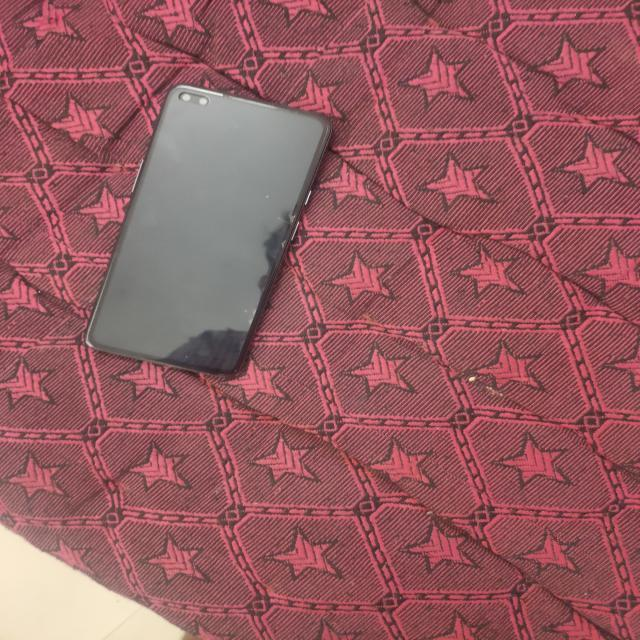Phone: (81, 80, 341, 384)
